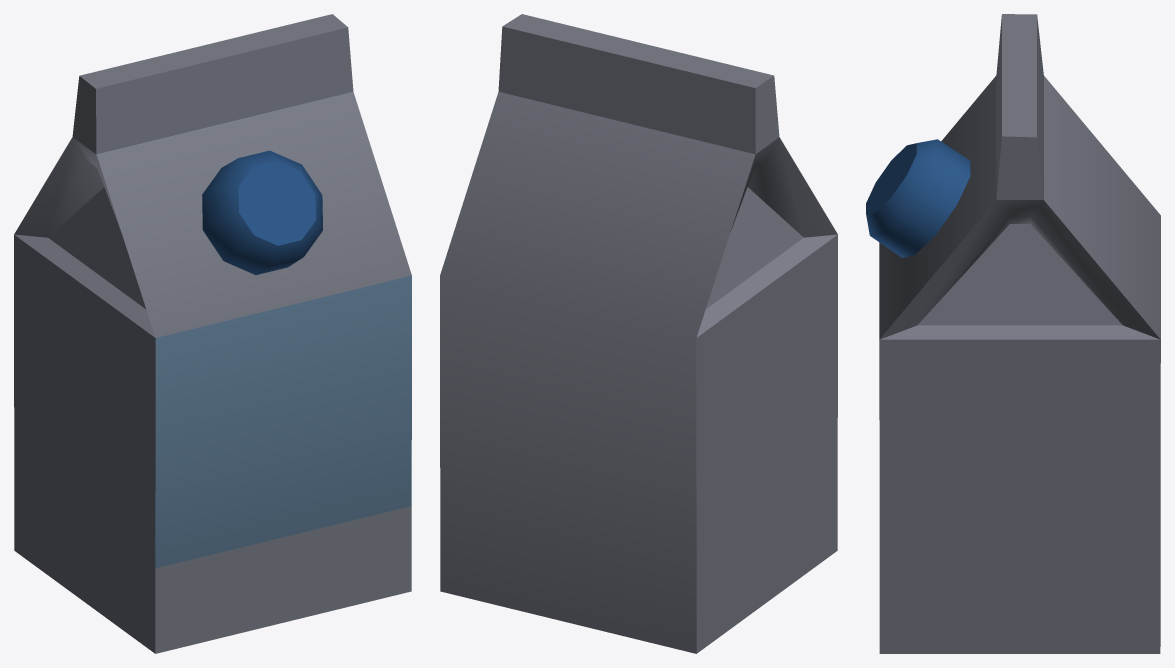
The model's file is milk_packet.fbx.
3 views of the same model, side by side, from view 1: azimuth 30°, elevation 25°; view 2: azimuth 150°, elevation 25°; view 3: azimuth 270°, elevation 25° (orthographic).
Visible parts, largest first — view 1: milk_packet; view 2: milk_packet; view 3: milk_packet.
Part boxes in pixels (x1,y1,x2,y2): milk_packet: (14, 14, 411, 653); milk_packet: (440, 14, 837, 653); milk_packet: (866, 14, 1160, 653).
Bounding box in the file's own units: 23.87 × 46.1 × 23.84.
